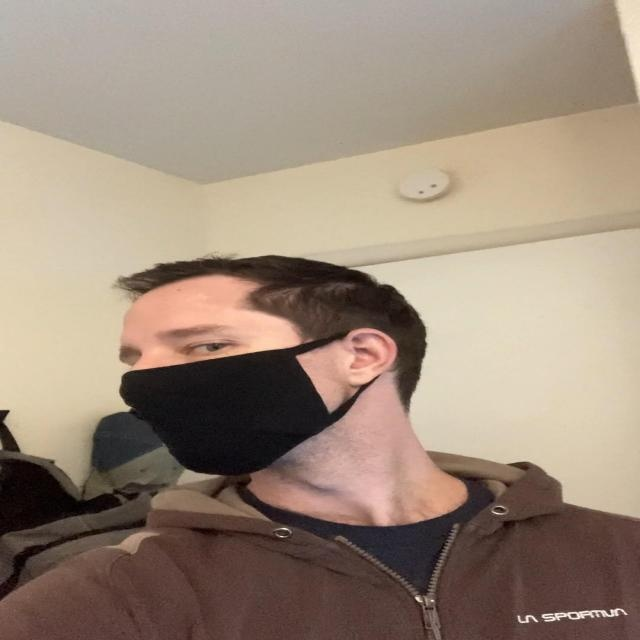Mask: (109, 339, 369, 477)
NO-Hardhat: (113, 255, 409, 311)
NO-Safety Vest: (16, 507, 640, 640)
Person: (10, 253, 640, 640)
